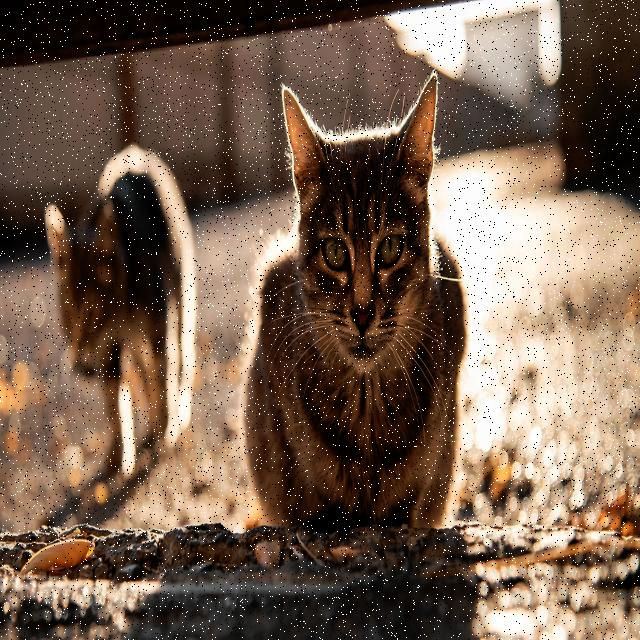cat: (245, 74, 465, 529), (45, 146, 196, 476)
